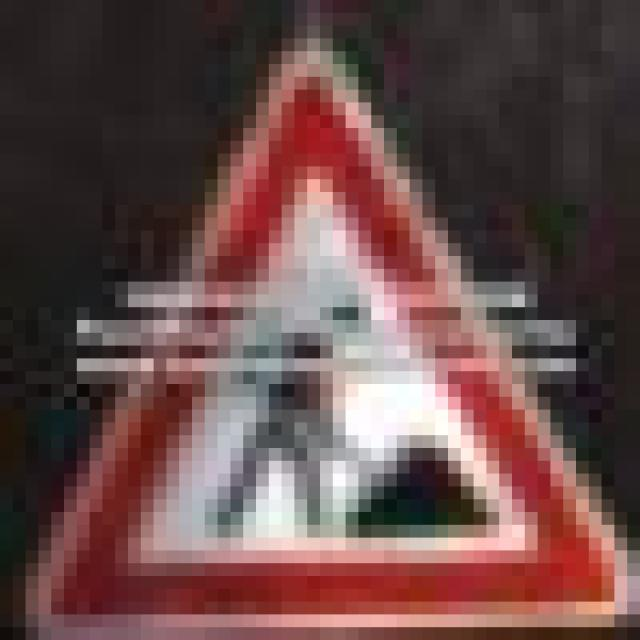road_work: (13, 13, 627, 627)
